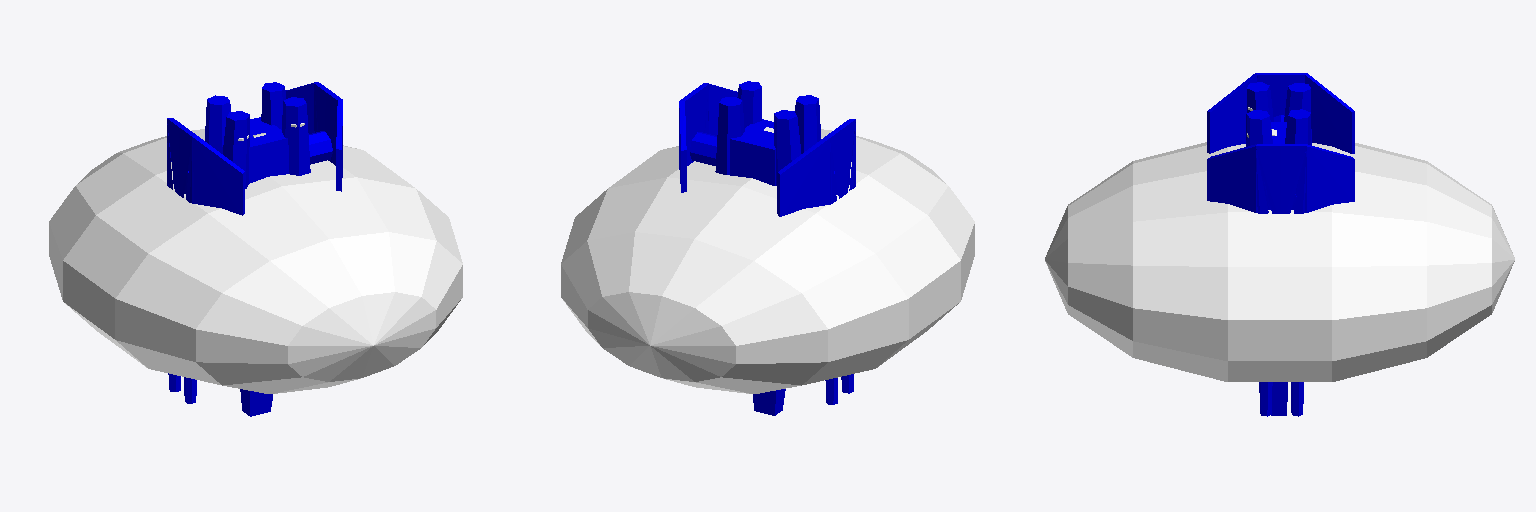
Rendered from Underworld_Black_Sun_X-Ceptor.obj.
The picture shows the model from 3 angles: view 1: azimuth 30°, elevation 25°; view 2: azimuth 150°, elevation 25°; view 3: azimuth 270°, elevation 25°; orthographic projection.
Visible parts, largest first — view 1: Shield, COL; view 2: Shield, COL; view 3: Shield, COL.
Boxes of the visible parts, box(x1,y1,x2,y2) form: Shield: box(49, 129, 462, 393); COL: box(167, 82, 342, 416); Shield: box(561, 129, 974, 393); COL: box(679, 81, 855, 415); Shield: box(1045, 142, 1514, 381); COL: box(1207, 73, 1354, 416).
Bounding box in the file's own units: 6.52 × 5.8 × 7.98.